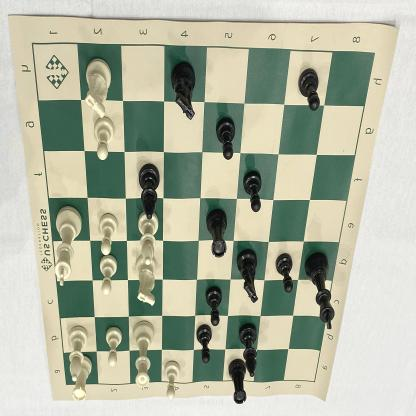black-bishop: (133, 161, 162, 223), (238, 319, 259, 381)
black-king: (303, 249, 336, 333)
black-knight: (169, 58, 197, 125), (236, 245, 259, 305)
black-pawn: (296, 65, 322, 117), (214, 116, 238, 164), (242, 167, 263, 216), (203, 284, 226, 328), (273, 251, 295, 296), (194, 322, 215, 367)
black-rook: (205, 207, 230, 264), (225, 356, 249, 410)
white-bishop: (63, 324, 91, 383), (137, 208, 160, 266)
white-king: (52, 205, 85, 290)
white-knight: (84, 54, 114, 122), (133, 253, 158, 309)
white-pawn: (92, 114, 116, 162), (160, 357, 182, 403), (97, 212, 119, 258), (104, 325, 125, 368), (98, 254, 119, 297)
white-queen: (132, 318, 156, 391)
white-rook: (70, 352, 94, 403)
